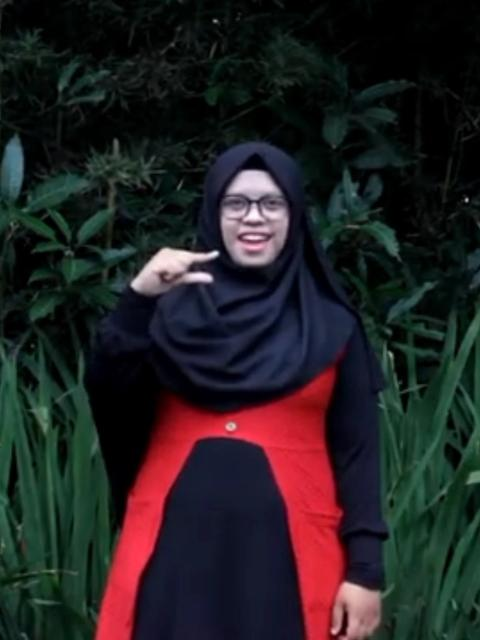G: (130, 241, 220, 301)
